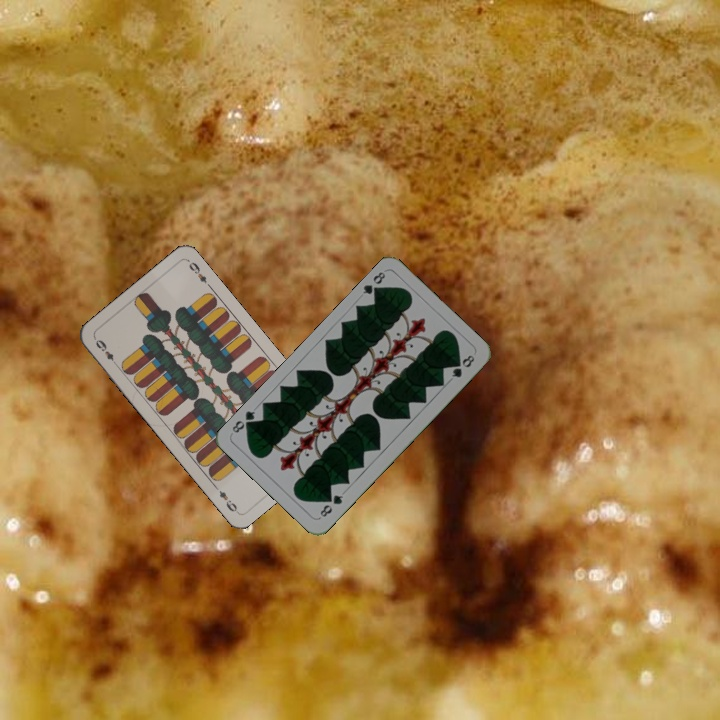E9: (91, 334, 121, 369)
G8: (358, 268, 388, 299), (316, 490, 346, 520)
